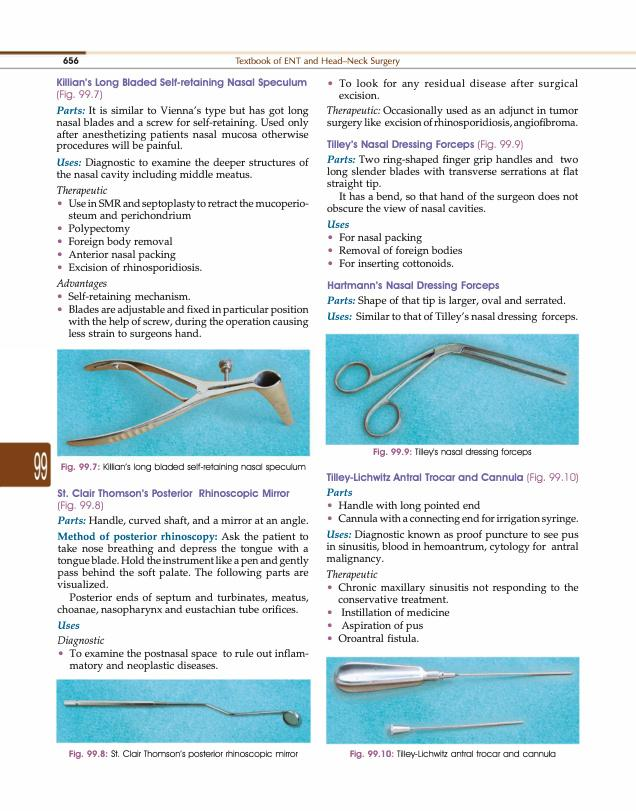caption: (59, 461, 308, 473), (68, 749, 299, 760), (348, 748, 557, 760), (371, 446, 533, 459)
header: (233, 56, 402, 67)
image: (324, 332, 580, 445), (56, 348, 310, 457), (325, 656, 579, 745), (56, 678, 311, 743)
list: (57, 198, 310, 275), (326, 582, 579, 644), (57, 291, 309, 341), (326, 499, 580, 525), (57, 648, 310, 673), (327, 78, 579, 100), (327, 232, 464, 272)
sub-section-heading: (55, 76, 308, 90), (55, 487, 292, 500), (325, 471, 525, 485), (57, 531, 218, 544), (326, 280, 500, 292), (326, 139, 475, 151), (326, 104, 381, 117), (326, 568, 379, 581), (56, 278, 108, 291), (56, 185, 108, 197), (56, 635, 105, 647), (326, 295, 356, 305), (327, 154, 356, 164), (57, 515, 86, 525), (56, 105, 85, 115), (327, 311, 353, 322), (325, 487, 353, 497), (325, 529, 352, 539), (56, 157, 82, 167), (327, 219, 351, 229), (57, 620, 81, 630)
text: (56, 531, 310, 617), (326, 154, 580, 214), (55, 105, 309, 153), (325, 528, 580, 566), (325, 104, 579, 131), (56, 156, 310, 181), (56, 515, 309, 528), (354, 311, 579, 325), (357, 295, 566, 308)
